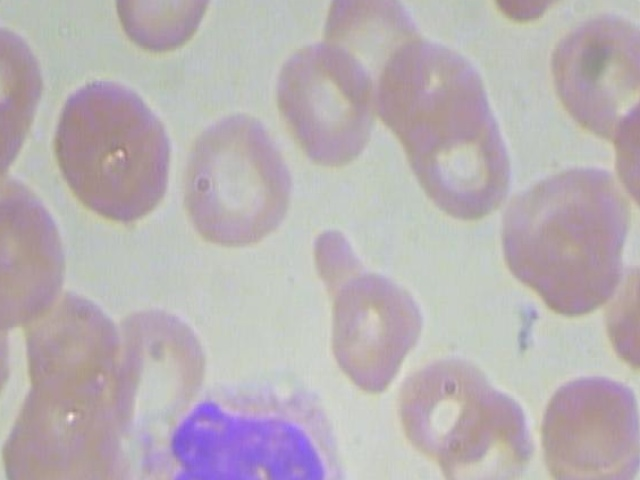RBC: (296, 216, 429, 396), (51, 74, 179, 230), (174, 100, 293, 259), (271, 35, 383, 167), (509, 186, 621, 318), (405, 89, 517, 221), (542, 1, 640, 151), (533, 368, 640, 480), (437, 379, 536, 480), (0, 184, 70, 326), (111, 0, 220, 60)
WBC: (128, 368, 353, 480)
